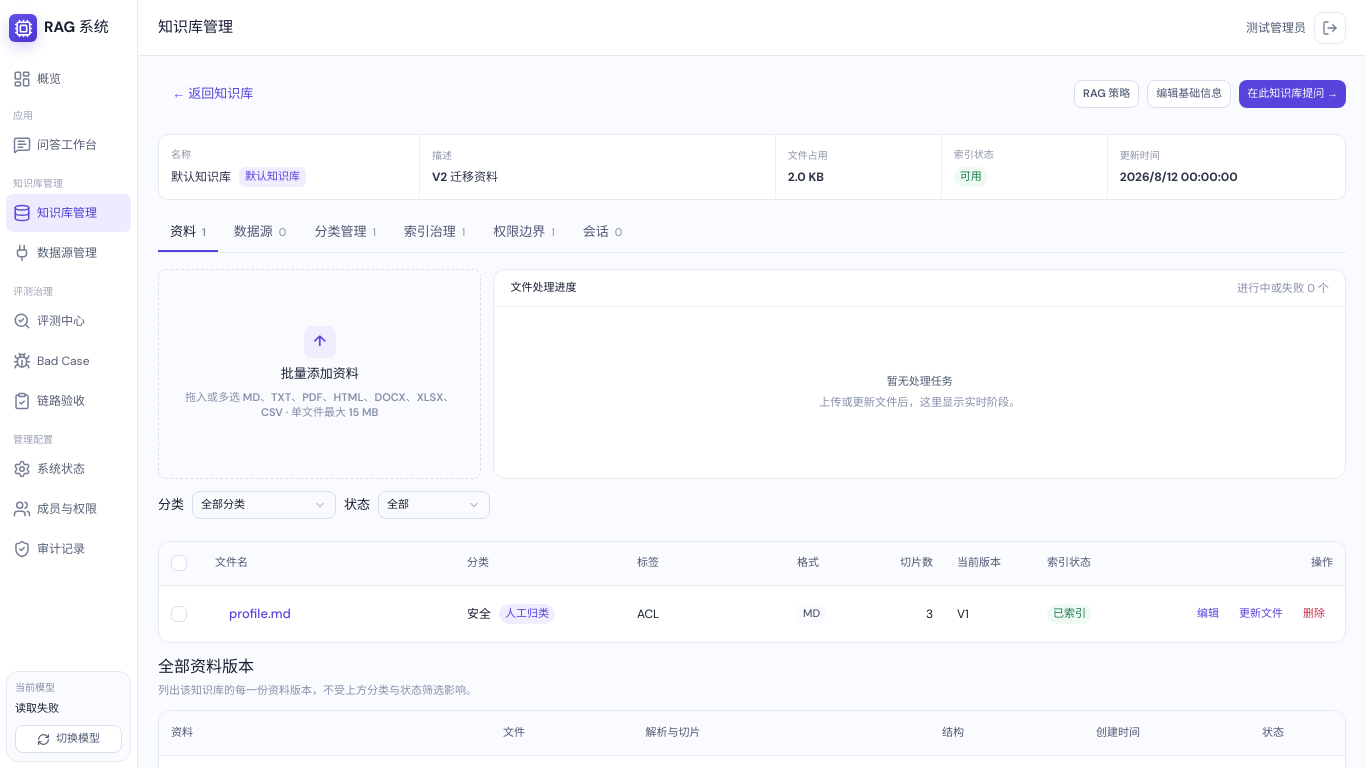
Scenario: RAG 策略弹框只展示 Web 开关与可信域名两个字段
Step 1. Click the button "RAG 策略" → (1107, 94), box [1074,80,1139,108]
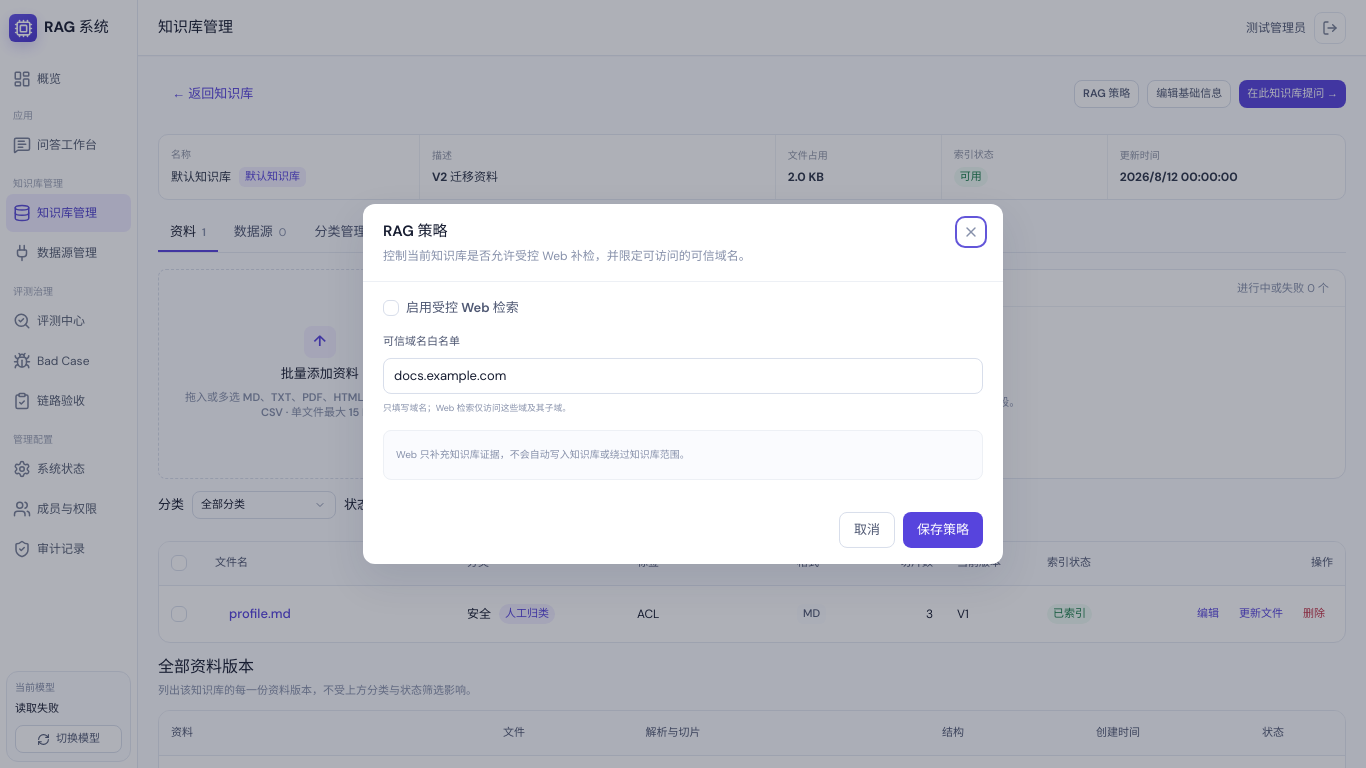
Expected: the dialog "RAG 策略" shows "控制当前知识库是否允许受控 Web 补检，并限定可访问的可信域名。", [383,248,751,264]
Expected: the dialog "RAG 策略" shows "Web 只补充知识库证据，不会自动写入知识库或绕过知识库范围。", [396,448,690,461]
Expected: the text "启用受控 Web 检索" is shown, [383,299,519,316]
